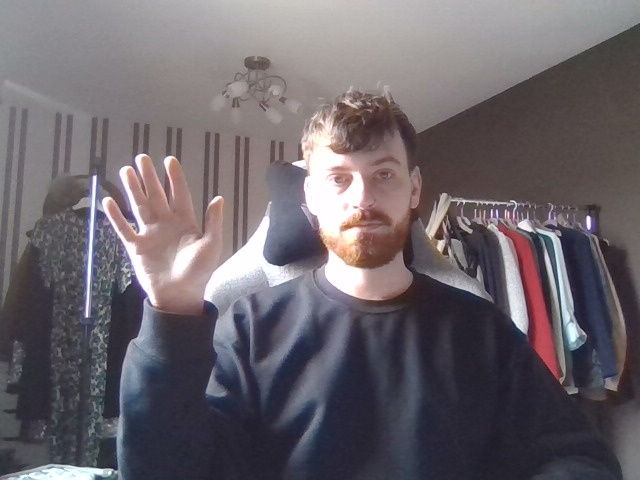Hello: (88, 135, 248, 309)
